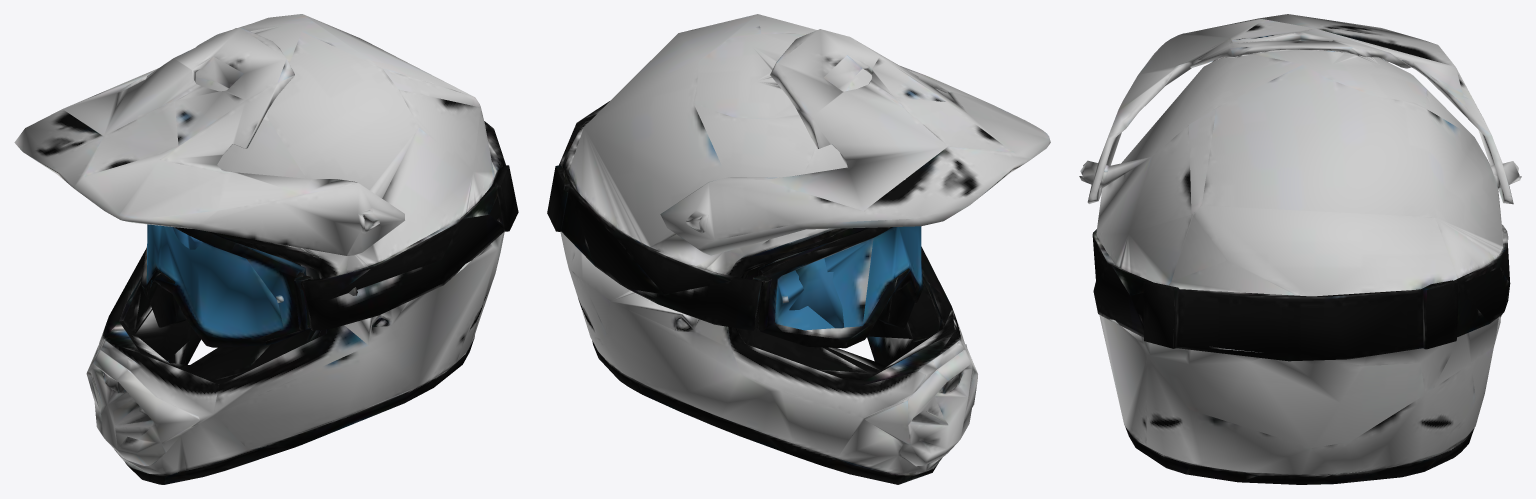
The model's file is helmet.glb.
The picture shows the model from 3 angles, left to right: view 1: azimuth 30°, elevation 25°; view 2: azimuth 150°, elevation 25°; view 3: azimuth 270°, elevation 25°; orthographic projection. The views are drawn at different scales.
Parts seen in each view (by area): view 1: material; view 2: material; view 3: material.
Part boxes in pixels (left/top/right/bottom): material: left=14, top=14, right=518, bottom=484; material: left=547, top=14, right=1050, bottom=484; material: left=1079, top=14, right=1521, bottom=484.
Size of the model in its own units: 1.05 by 0.9327 by 0.8301.
Materials: 1 (1 with a texture image).
